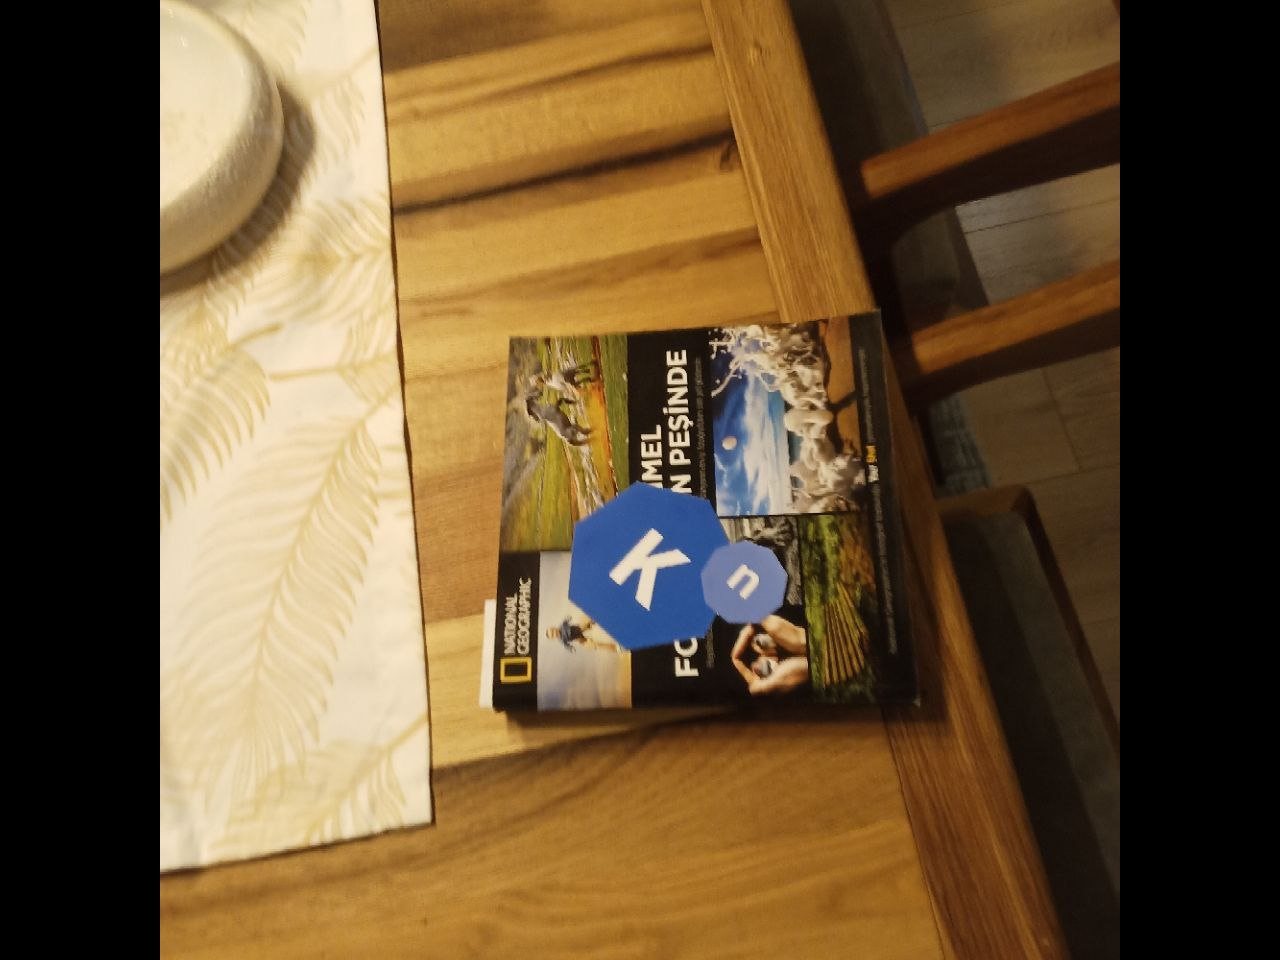knative: (566, 479, 791, 654)
